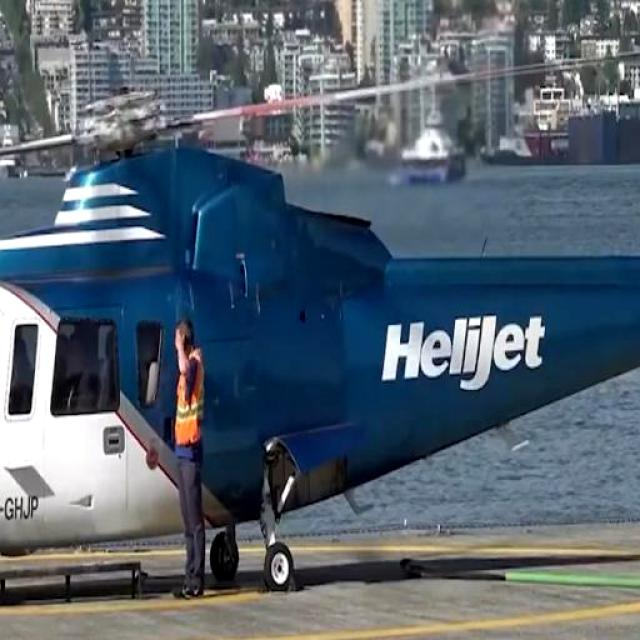drone: (0, 0, 640, 611)
